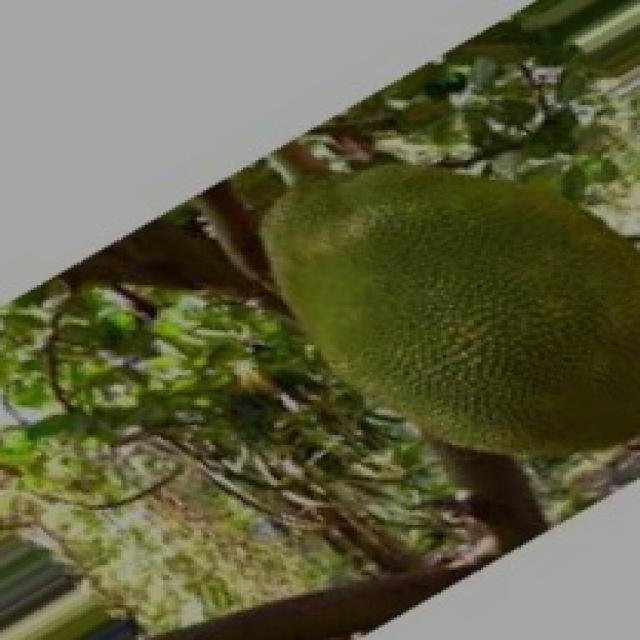Fruit: (227, 127, 640, 484)
